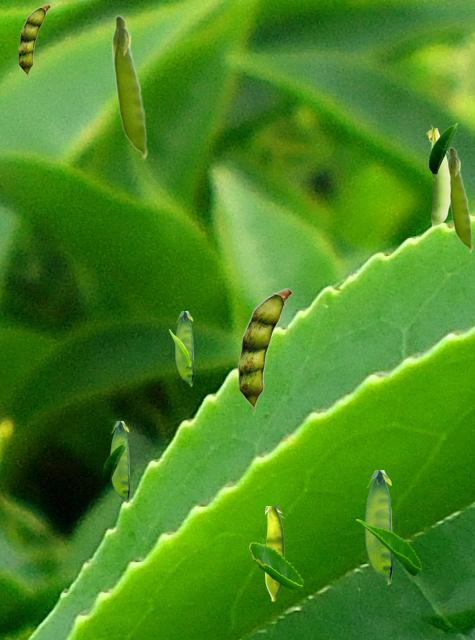pea: (238, 288, 291, 414), (111, 14, 147, 159), (365, 470, 391, 583), (448, 146, 472, 252), (426, 125, 449, 225), (18, 4, 49, 78), (265, 506, 283, 600), (110, 421, 128, 502), (175, 311, 192, 385)
